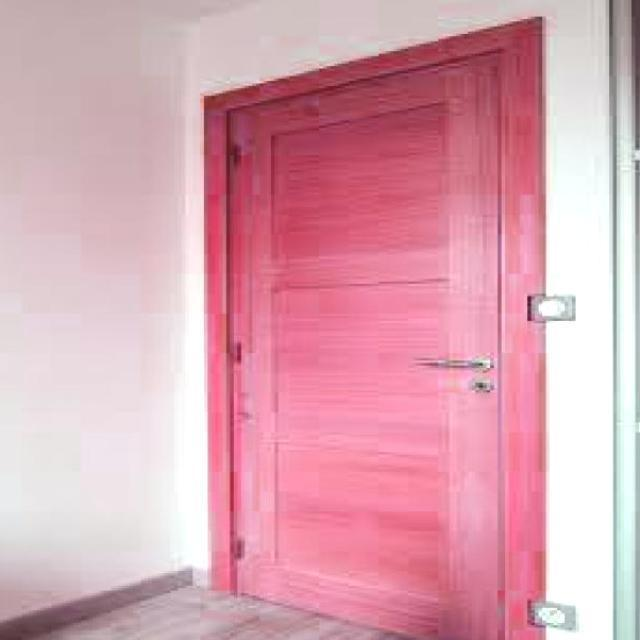door: (205, 18, 546, 638)
